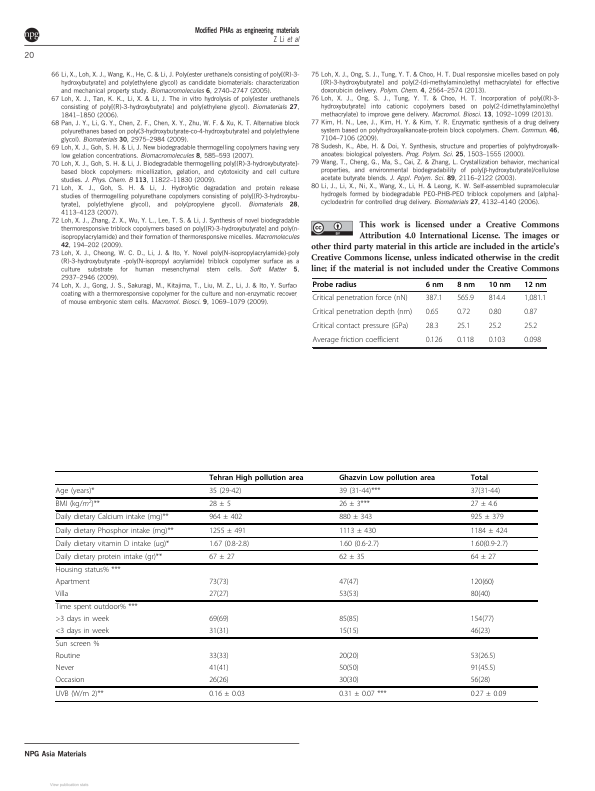borderless: (54, 469, 538, 701), (311, 277, 546, 347)
cell: (55, 526, 175, 535), (55, 552, 163, 562), (55, 513, 170, 522), (55, 539, 170, 548), (312, 308, 413, 317), (338, 473, 436, 482), (312, 322, 409, 331), (312, 294, 408, 303), (208, 473, 304, 482), (312, 336, 400, 345), (55, 603, 138, 612), (55, 565, 121, 575), (55, 626, 110, 636), (54, 498, 101, 509), (55, 615, 110, 624), (55, 689, 104, 698), (338, 689, 387, 698), (338, 486, 381, 496), (54, 486, 95, 496), (55, 640, 100, 649), (208, 539, 250, 548), (338, 539, 380, 548), (312, 281, 358, 289), (55, 577, 91, 587), (208, 526, 247, 535), (338, 526, 377, 535), (470, 539, 509, 548), (470, 526, 508, 535), (208, 689, 246, 698), (208, 486, 242, 496), (470, 689, 507, 698), (338, 499, 371, 509), (208, 513, 243, 522), (338, 513, 373, 522), (470, 513, 505, 522), (470, 486, 501, 496), (470, 499, 498, 509), (208, 552, 235, 562), (338, 552, 365, 562), (470, 552, 497, 562), (55, 676, 85, 685), (470, 577, 495, 587), (208, 499, 232, 509), (55, 652, 81, 661), (470, 652, 496, 661), (470, 664, 496, 673), (470, 615, 495, 624), (208, 577, 230, 587), (208, 589, 230, 599), (208, 626, 230, 636), (523, 294, 547, 303), (338, 577, 359, 587), (338, 589, 359, 599), (470, 589, 491, 599), (338, 626, 359, 636), (470, 626, 491, 636), (208, 615, 230, 624), (208, 652, 230, 661), (208, 664, 230, 673), (208, 676, 230, 685), (488, 281, 512, 289), (523, 281, 547, 289), (338, 615, 359, 624), (338, 652, 359, 661), (338, 664, 359, 673), (338, 676, 359, 685), (470, 676, 491, 685), (55, 664, 75, 673), (456, 294, 475, 303), (456, 336, 475, 345), (523, 336, 542, 345), (470, 473, 489, 482), (425, 294, 443, 303), (488, 294, 506, 303), (425, 336, 443, 345), (488, 336, 506, 345), (456, 281, 476, 289), (425, 281, 444, 289), (55, 589, 69, 599), (456, 308, 471, 317), (523, 308, 538, 317), (456, 322, 471, 331), (523, 322, 538, 331), (425, 308, 439, 317), (488, 308, 502, 317), (425, 322, 439, 331), (488, 322, 502, 331)
